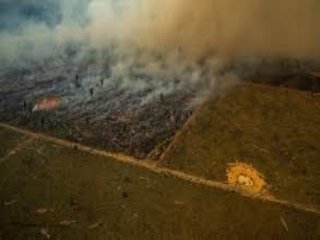smoke: (8, 19, 237, 114)
